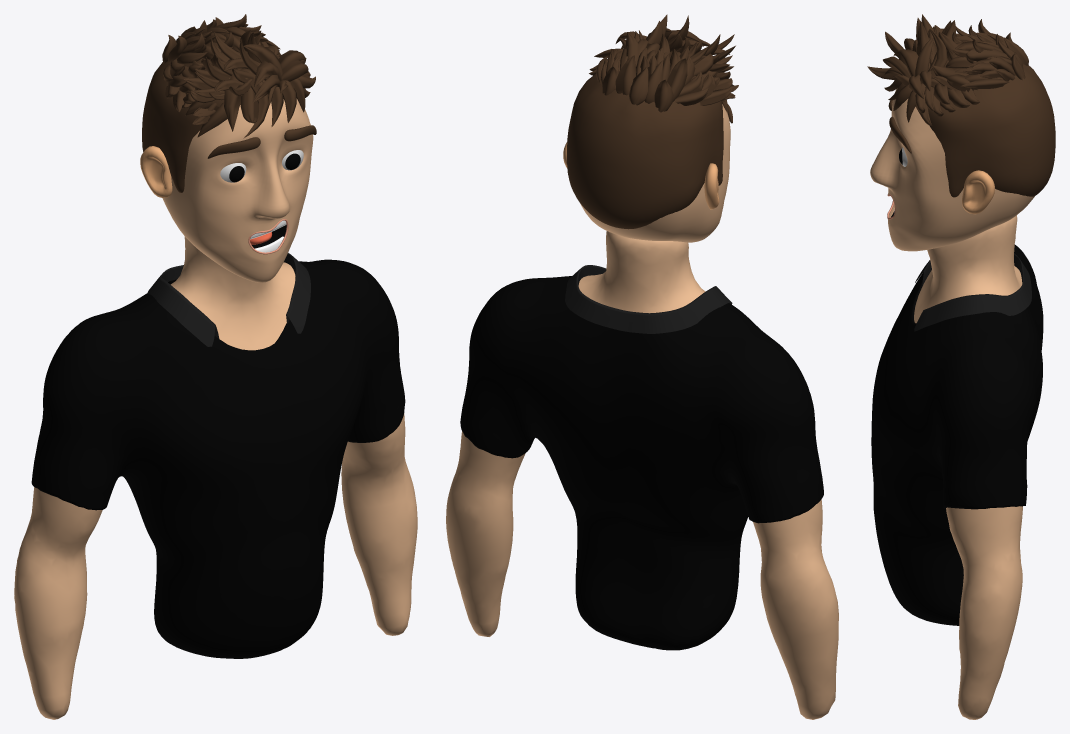
The model's file is myCharacter7.glb.
3 views of the same model, side by side, from view 1: azimuth 30°, elevation 25°; view 2: azimuth 150°, elevation 25°; view 3: azimuth 270°, elevation 25° (orthographic). The views are drawn at different scales.
Parts seen in each view (by area): view 1: Kunas, Galva; view 2: Kunas, Galva; view 3: Kunas, Galva.
Part boxes in pixels (bbox=[...]): Kunas: bbox=[14, 236, 417, 719]; Galva: bbox=[140, 14, 316, 282]; Kunas: bbox=[446, 231, 838, 719]; Galva: bbox=[563, 14, 738, 242]; Kunas: bbox=[871, 215, 1043, 719]; Galva: bbox=[867, 14, 1055, 251].
Size of the model in its own units: 0.4827 by 0.7741 by 0.2142.
2 materials, 2 textured.
